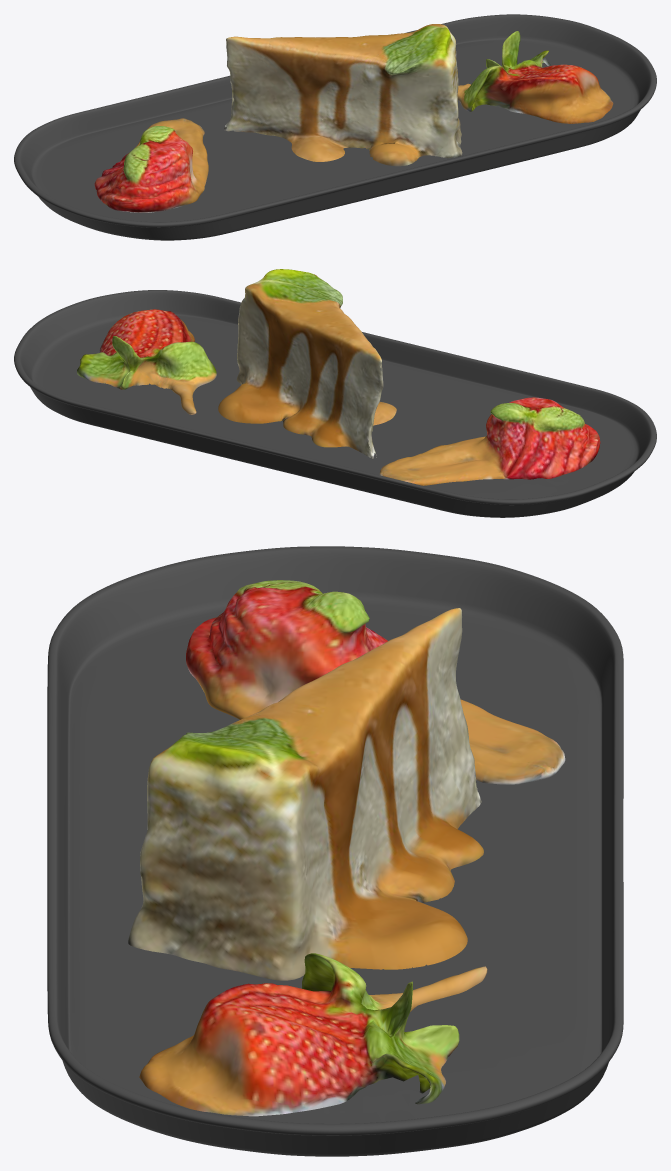
Rendered from cheesecake-draco.glb.
3 views of the same model, one above another, from view 1: azimuth 30°, elevation 25°; view 2: azimuth 150°, elevation 25°; view 3: azimuth 270°, elevation 25° (orthographic). The views are drawn at different scales.
Visible parts, largest first — view 1: geo_object_high_07.001, CHEESECAKE2_3.001; view 2: geo_object_high_07.001, CHEESECAKE2_3.001; view 3: geo_object_high_07.001, CHEESECAKE2_3.001.
Part boxes in pixels (box(x1,y1,x2,y2)): geo_object_high_07.001: box(14, 14, 656, 240); CHEESECAKE2_3.001: box(94, 24, 613, 212); geo_object_high_07.001: box(14, 290, 656, 517); CHEESECAKE2_3.001: box(77, 269, 600, 485); geo_object_high_07.001: box(47, 546, 623, 1156); CHEESECAKE2_3.001: box(128, 580, 565, 1116).
Size of the model in its own units: 1.13 by 0.196 by 0.4703.
Materials: 2 (2 with a texture image).
